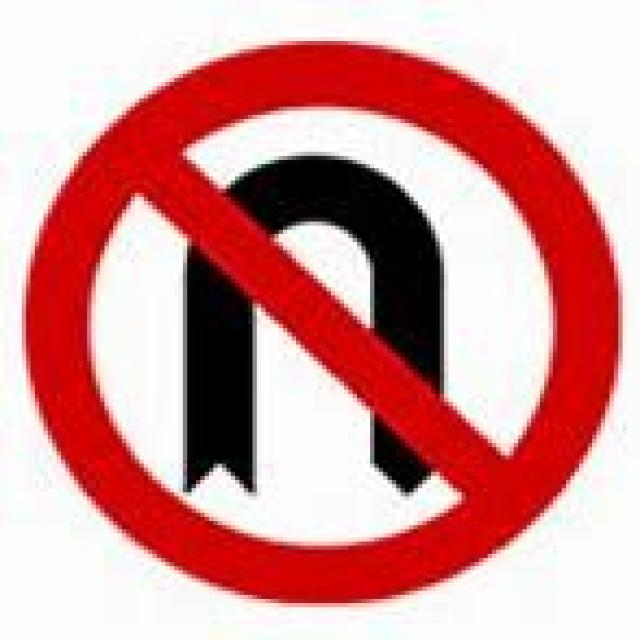U_TURN_PROHIBITED: (20, 20, 632, 624)
